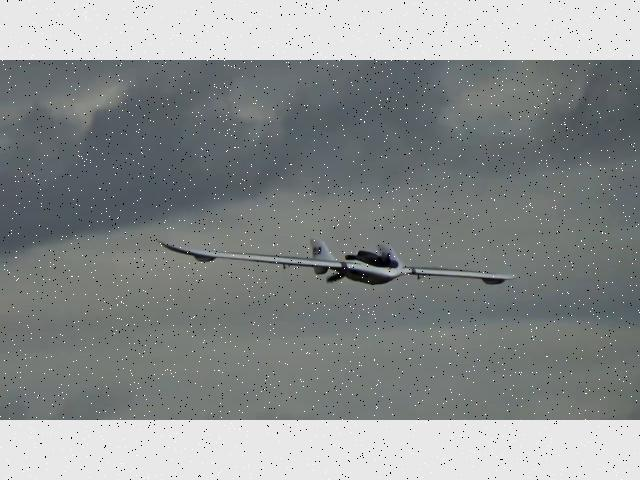Anti-Drone: (156, 233, 518, 287)
